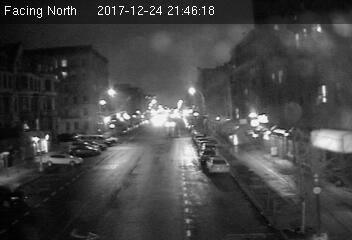car: (205, 153, 230, 175)
